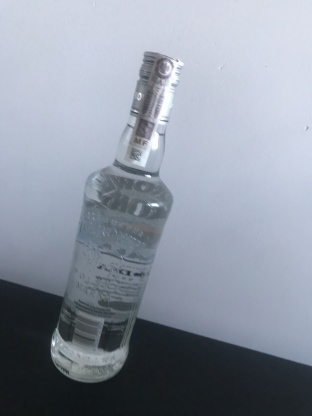nakretka: (128, 47, 185, 127)
